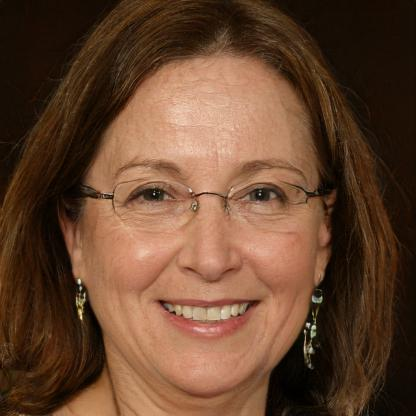glasses: (99, 172, 319, 232)
